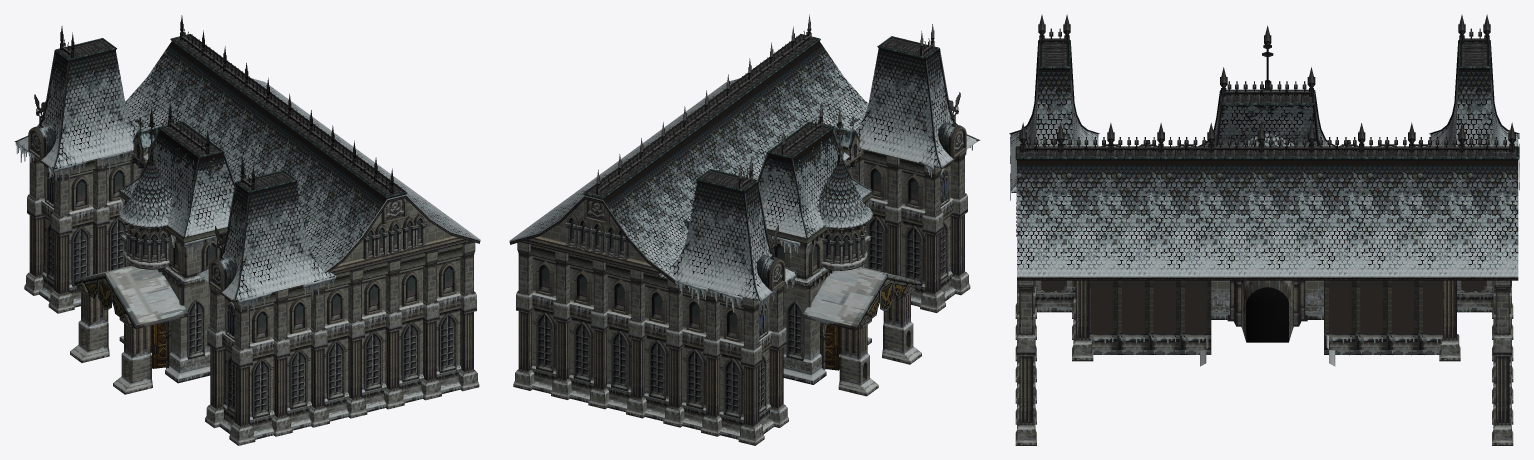
The model's file is EnvBdgMD_Snow_Seidoukikan_A_Outdoor.FBX.
3 views of the same model, side by side, from view 1: azimuth 30°, elevation 25°; view 2: azimuth 150°, elevation 25°; view 3: azimuth 270°, elevation 25° (orthographic). The views are drawn at different scales.
Visible parts, largest first — view 1: EnvBdgMD_Snow_Seidoukikan_A_Outdoor; view 2: EnvBdgMD_Snow_Seidoukikan_A_Outdoor; view 3: EnvBdgMD_Snow_Seidoukikan_A_Outdoor.
Part boxes in pixels (x1,y1,x2,y2): EnvBdgMD_Snow_Seidoukikan_A_Outdoor: (14, 15, 480, 445); EnvBdgMD_Snow_Seidoukikan_A_Outdoor: (509, 14, 980, 445); EnvBdgMD_Snow_Seidoukikan_A_Outdoor: (1009, 14, 1519, 445).
Size of the model in its own units: 1475 by 1365 by 2035.
Materials: 1 (1 with a texture image).
